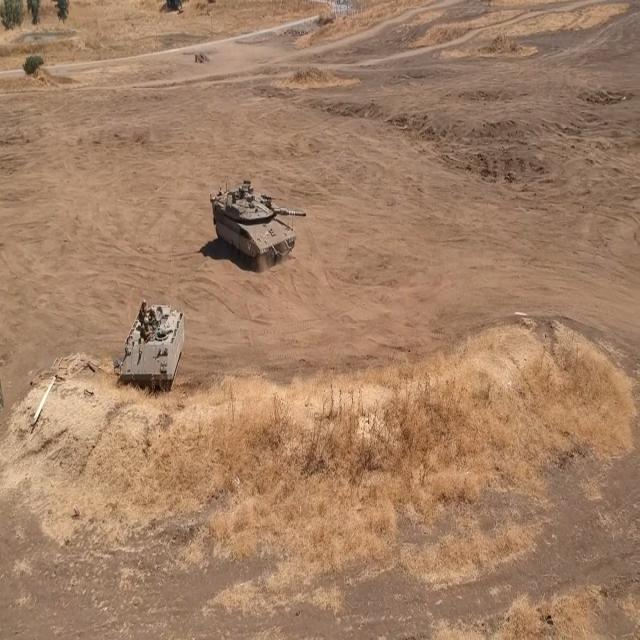tank: (206, 177, 310, 279)
